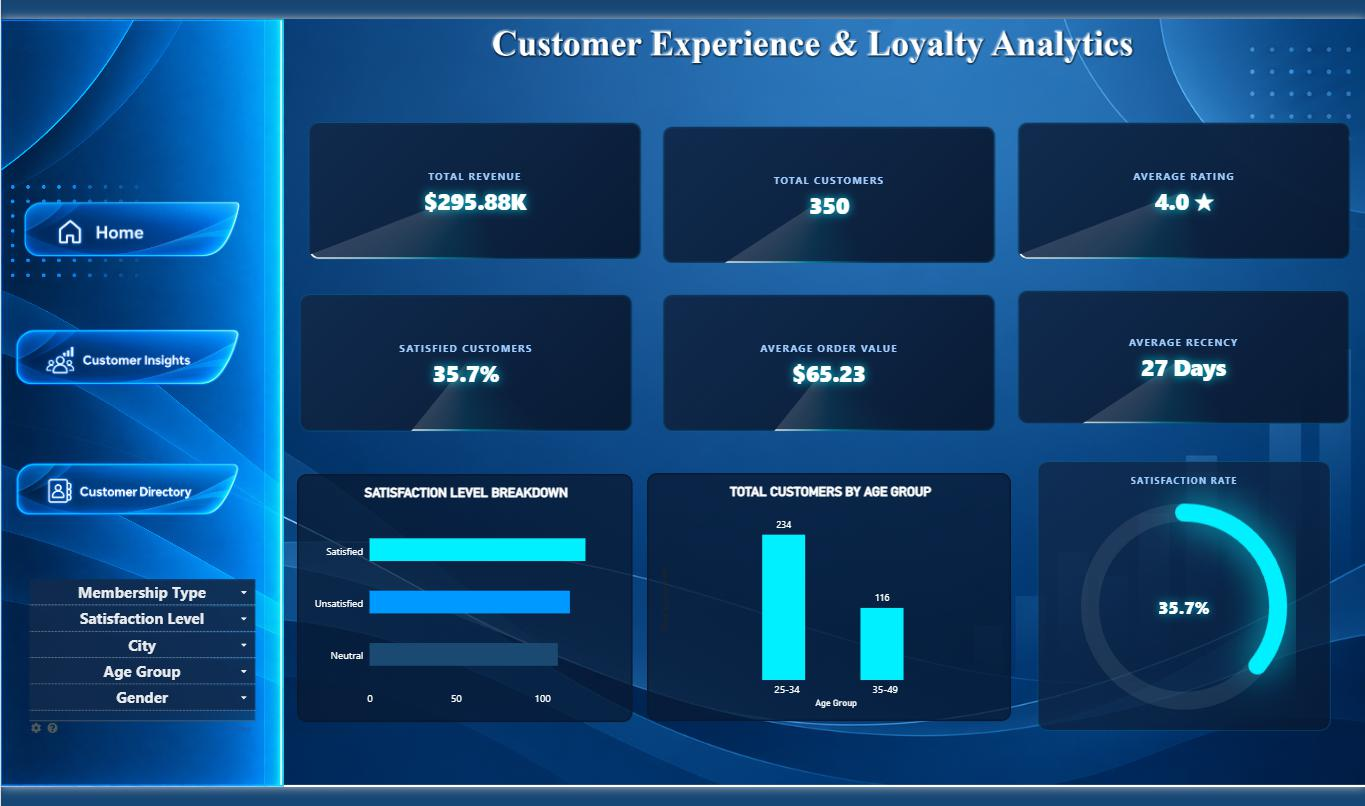

Layout of this report page (visuals, bound fields, positions):
{"tool":"powerbi","page":{"name":"HOME","canvas":[1920,1080],"ordinal":0},"visuals":[{"type":"image","box":[0,0,398.3,1079.6],"z":0},{"type":"htmlContent443BE3AD55E043BF878BED274D3A6855","fields":{"content":["CB.Sliding_Header_Image"]},"box":[379.3,0,1540.7,125.5],"z":1000},{"type":"htmlContent443BE3AD55E043BF878BED274D3A6855","fields":{"content":["HTML_UI_Measures.HTML_KPI_TotalRevenue"]},"box":[411.3,125.8,512.1,234.9],"z":2000},{"type":"htmlContent443BE3AD55E043BF878BED274D3A6855","fields":{"content":["HTML_UI_Measures.HTML_KPI_TotalCustomers"]},"box":[909.3,131.2,512.1,234.9],"z":3000},{"type":"htmlContent443BE3AD55E043BF878BED274D3A6855","fields":{"content":["HTML_UI_Measures.HTML_KPI_AverageRating"]},"box":[1408.5,125.8,512.1,234.9],"z":4000},{"type":"htmlContent443BE3AD55E043BF878BED274D3A6855","fields":{"content":["HTML_UI_Measures.HTML_KPI_AOV"]},"box":[909.3,366.7,512.1,234.9],"z":5000},{"type":"htmlContent443BE3AD55E043BF878BED274D3A6855","fields":{"content":["HTML_UI_Measures.HTML_KPI_SatisfiedCustomerPct"]},"box":[397.8,366.7,512.1,234.9],"z":6000},{"type":"htmlContent443BE3AD55E043BF878BED274D3A6855","fields":{"content":["HTML_UI_Measures.HTML_KPI_AverageRecency"]},"box":[1408.5,361.3,511.5,230],"z":7000},{"type":"htmlContent443BE3AD55E043BF878BED274D3A6855","fields":{"content":["HTML_UI_Measures.HTML_Chart_SatisfiedRing"]},"box":[1435.6,602.1,456,420.8],"z":8000},{"type":"clusteredBarChart","title":"SATISFACTION LEVEL BREAKDOWN","fields":{"Category":["CB.Satisfaction Level"],"Y":["CB.Total Customers"]},"box":[416.7,639.5,472.2,349.1],"z":9000},{"type":"clusteredColumnChart","title":"TOTAL CUSTOMERS BY AGE GROUP","fields":{"Category":["CB.Age Group"],"Y":["CB.Total Customers"]},"box":[909,639,512,349],"z":10000},{"type":"image","box":[29.1,225.6,307.8,141.5],"z":11000},{"type":"image","box":[18,398.7,318.4,156.4],"z":12000},{"type":"image","box":[18,570.3,318.4,184.1],"z":13000},{"type":"slicerbar3CFEC581C7714376BAAD037A86A563B6","fields":{"category":["CB.Membership Type","CB.Satisfaction Level","CB.City","CB.Age Group","CB.Gender"]},"box":[24.1,774,349.3,248.5],"z":13001}]}

Visuals, with their boxes on the page's 1920x1080 design canvas (x1, y1, x2, y2). These are canvas units, not pixel positions in the 1365x806 screenshot, which may show the page scaled, cropped or inside an application window:
image: box=[0, 0, 398, 1080]
htmlContent443BE3AD55E043BF878BED274D3A6855 - CB.Sliding_Header_Image: box=[379, 0, 1920, 126]
htmlContent443BE3AD55E043BF878BED274D3A6855 - HTML_UI_Measures.HTML_KPI_TotalRevenue: box=[411, 126, 923, 361]
htmlContent443BE3AD55E043BF878BED274D3A6855 - HTML_UI_Measures.HTML_KPI_TotalCustomers: box=[909, 131, 1421, 366]
htmlContent443BE3AD55E043BF878BED274D3A6855 - HTML_UI_Measures.HTML_KPI_AverageRating: box=[1408, 126, 1921, 361]
htmlContent443BE3AD55E043BF878BED274D3A6855 - HTML_UI_Measures.HTML_KPI_AOV: box=[909, 367, 1421, 602]
htmlContent443BE3AD55E043BF878BED274D3A6855 - HTML_UI_Measures.HTML_KPI_SatisfiedCustomerPct: box=[398, 367, 910, 602]
htmlContent443BE3AD55E043BF878BED274D3A6855 - HTML_UI_Measures.HTML_KPI_AverageRecency: box=[1408, 361, 1920, 591]
htmlContent443BE3AD55E043BF878BED274D3A6855 - HTML_UI_Measures.HTML_Chart_SatisfiedRing: box=[1436, 602, 1892, 1023]
"SATISFACTION LEVEL BREAKDOWN" clusteredBarChart: box=[417, 640, 889, 989]
"TOTAL CUSTOMERS BY AGE GROUP" clusteredColumnChart: box=[909, 639, 1421, 988]
image: box=[29, 226, 337, 367]
image: box=[18, 399, 336, 555]
image: box=[18, 570, 336, 754]
slicerbar3CFEC581C7714376BAAD037A86A563B6 - CB.Membership Type x CB.Satisfaction Level: box=[24, 774, 373, 1022]
